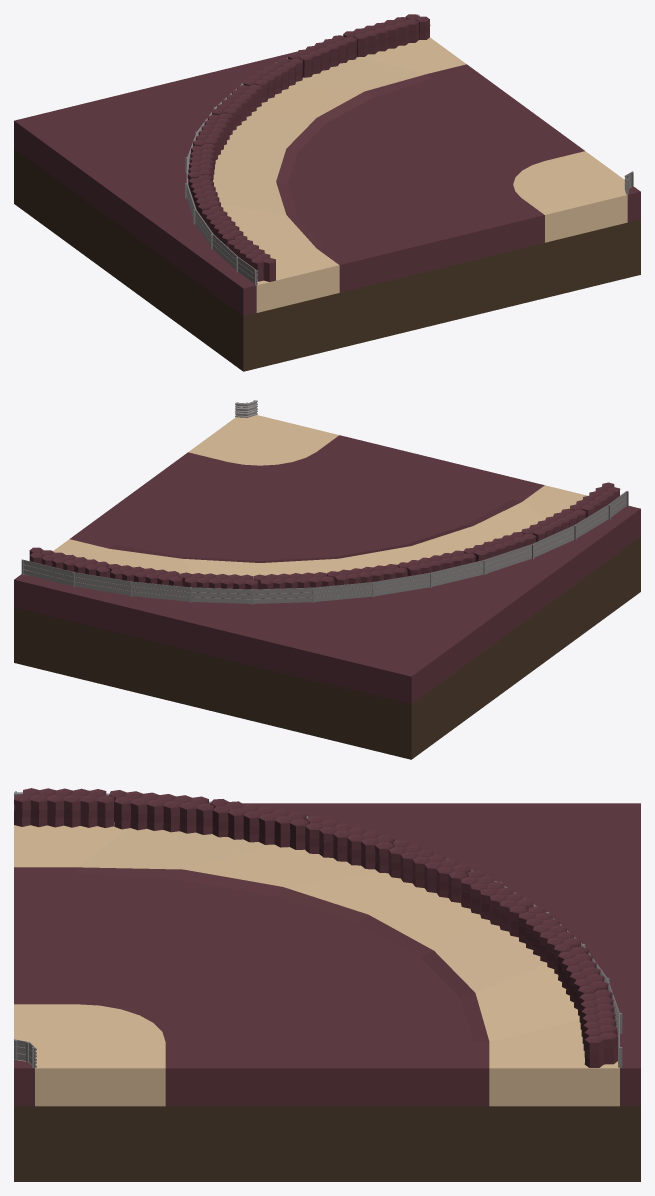
The model's file is tiles-tile-race-track-sand-curve.glb.
3 views of the same model, one above another, from view 1: azimuth 30°, elevation 25°; view 2: azimuth 150°, elevation 25°; view 3: azimuth 270°, elevation 25° (orthographic). The views are drawn at different scales.
Parts seen in each view (by area): view 1: tile-race-track-sand-curve; view 2: tile-race-track-sand-curve; view 3: tile-race-track-sand-curve.
Boxes of the visible parts, x1,y1,x2,y2 form: tile-race-track-sand-curve: [14, 14, 640, 371]; tile-race-track-sand-curve: [14, 400, 640, 759]; tile-race-track-sand-curve: [14, 788, 640, 1181].
Bounding box in the file's own units: 30.01 × 7.32 × 30.
